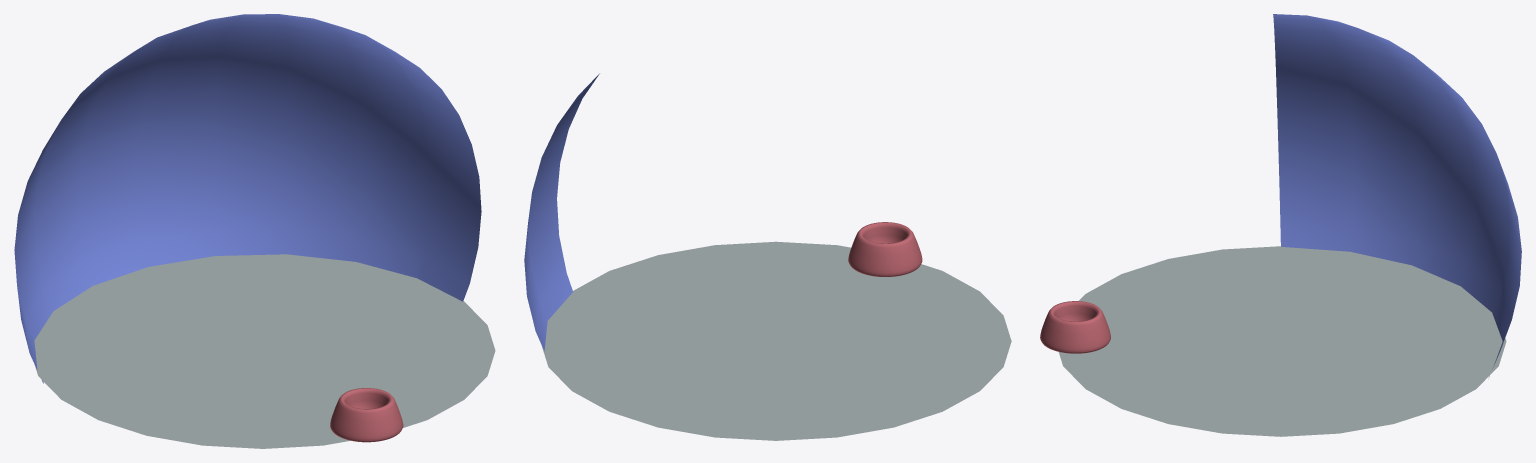
File: just_a_hungry_staticBackground.glb
3 renders of one model, left to right at view 1: azimuth 30°, elevation 25°; view 2: azimuth 150°, elevation 25°; view 3: azimuth 270°, elevation 25°, orthographic. The views are drawn at different scales.
Parts seen in each view (by area): view 1: Bowl_M_Bowl_PinkishRed_0; view 2: Bowl_M_Bowl_PinkishRed_0; view 3: Bowl_M_Bowl_PinkishRed_0.
Part boxes in pixels (x1,y1,x2,y2): Bowl_M_Bowl_PinkishRed_0: [14, 14, 495, 448]; Bowl_M_Bowl_PinkishRed_0: [524, 73, 1011, 440]; Bowl_M_Bowl_PinkishRed_0: [1040, 14, 1521, 436].
Size of the model in its own units: 1.27 by 0.9217 by 1.26.
